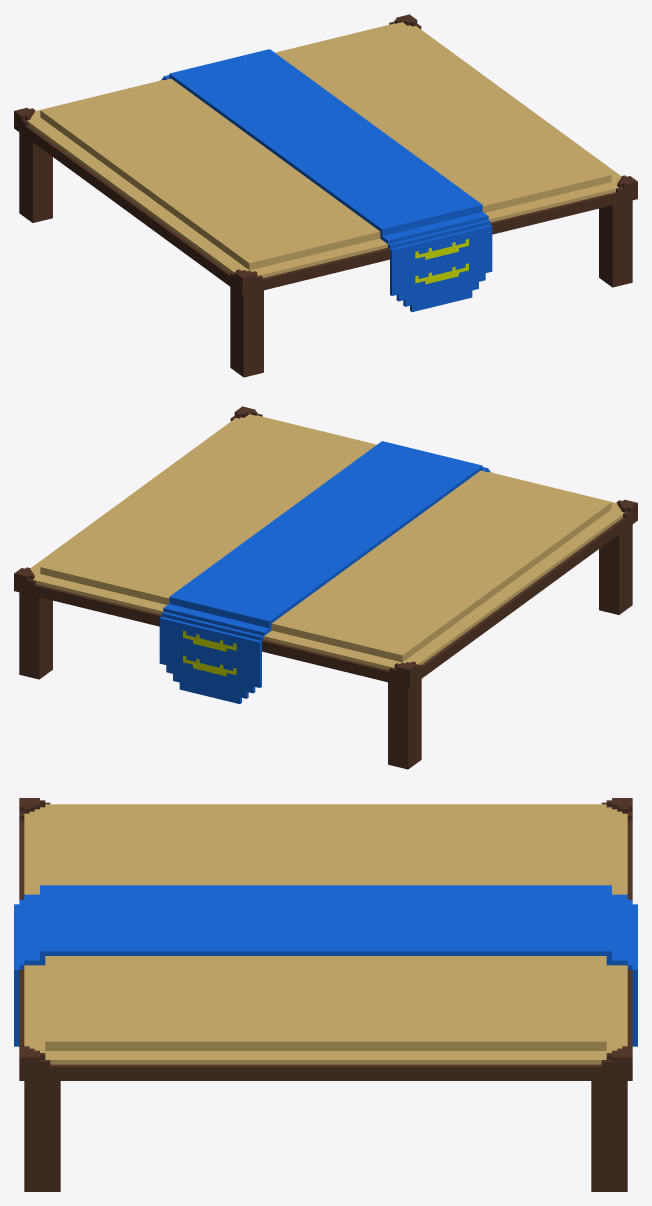
File: Square Table.obj
The picture shows the model from 3 angles, top to bottom: view 1: azimuth 30°, elevation 25°; view 2: azimuth 150°, elevation 25°; view 3: azimuth 270°, elevation 25°; orthographic projection. The views are drawn at different scales.
Parts seen in each view (by area): view 1: Square Table; view 2: Square Table; view 3: Square Table.
Part boxes in pixels (x1,y1,x2,y2): Square Table: (14, 14, 637, 377); Square Table: (14, 406, 637, 769); Square Table: (14, 798, 637, 1191).
Size of the model in its own units: 118 by 31 by 120.
1 material, 1 textured.
